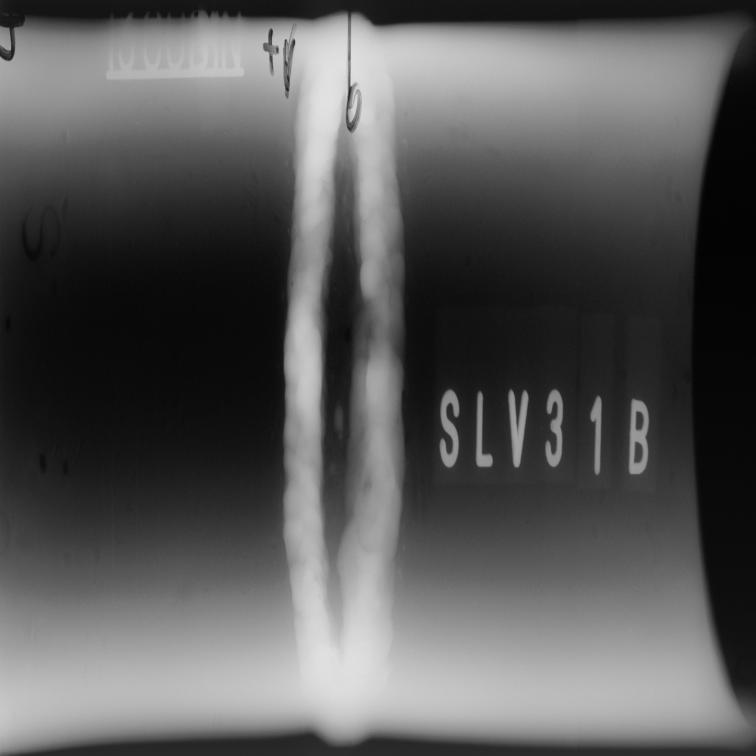FF: (280, 401, 299, 522), (283, 546, 306, 629)
PO: (288, 274, 296, 292)
